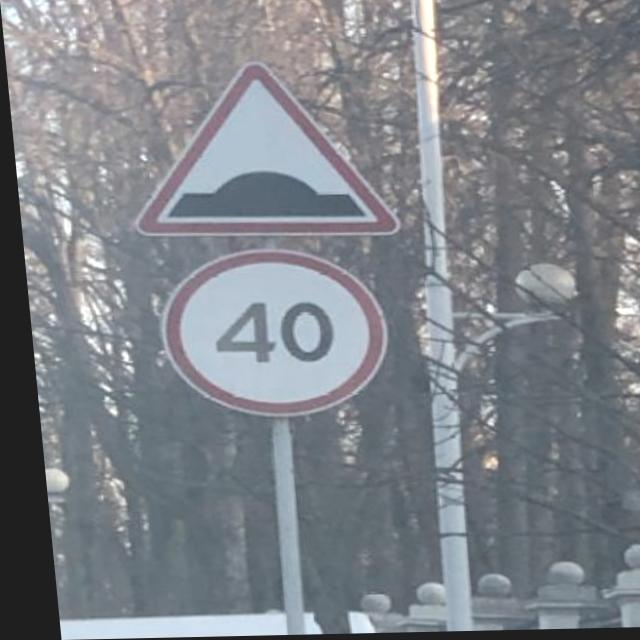limit40: (142, 244, 395, 430)
